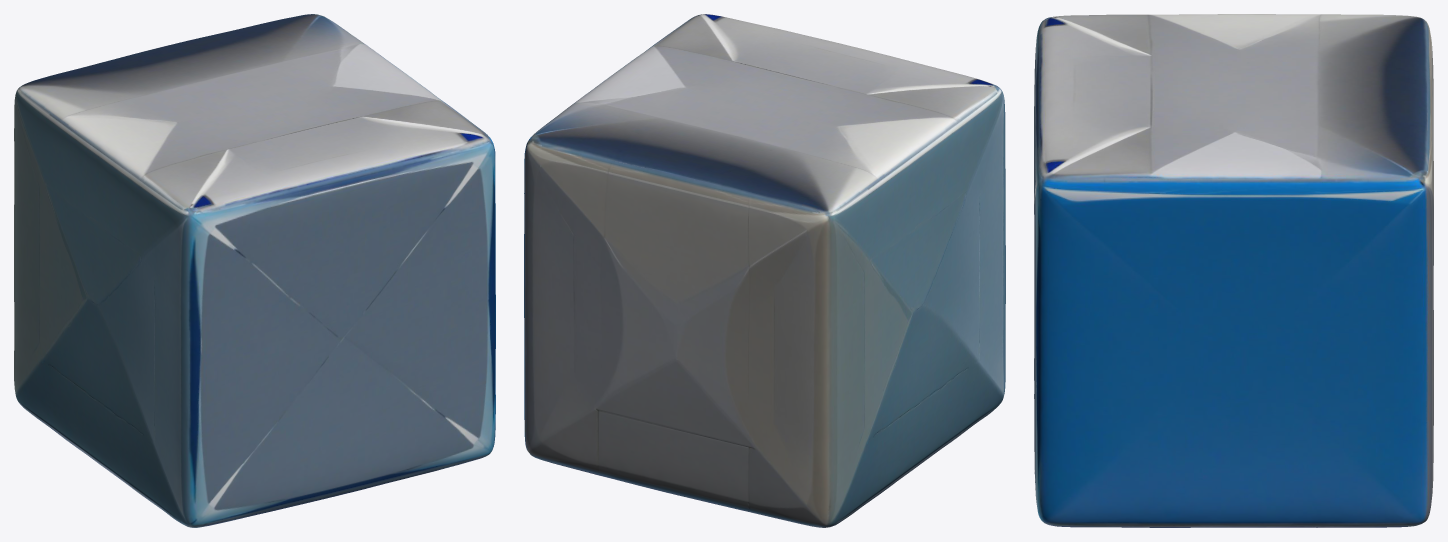
3 renders of one model, left to right at view 1: azimuth 30°, elevation 25°; view 2: azimuth 150°, elevation 25°; view 3: azimuth 270°, elevation 25°, orthographic. The views are drawn at different scales.
Parts seen in each view (by area): view 1: Mesh1.0; view 2: Mesh1.0; view 3: Mesh1.0.
Part boxes in pixels (box(x1,y1,x2,y2)): Mesh1.0: box(14, 14, 495, 527); Mesh1.0: box(524, 14, 1005, 527); Mesh1.0: box(1034, 14, 1433, 527).
Size of the model in its own units: 201 by 201 by 201.
1 material, 1 textured.
